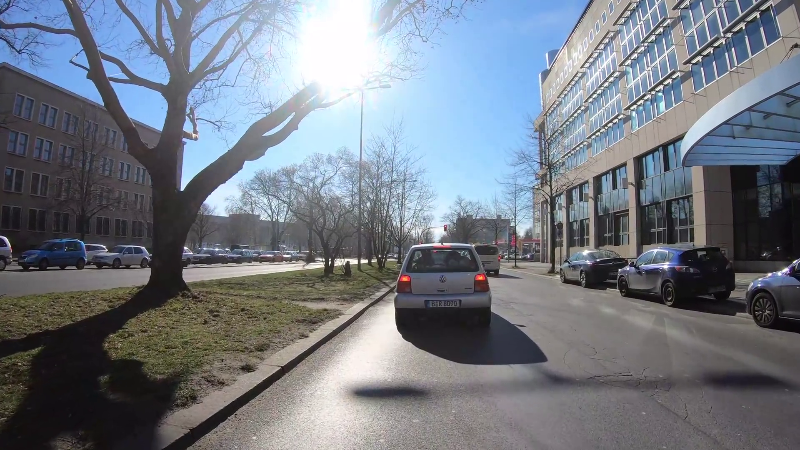Plate: (423, 299, 461, 309), (706, 283, 727, 292), (605, 270, 619, 277), (481, 260, 492, 265)
